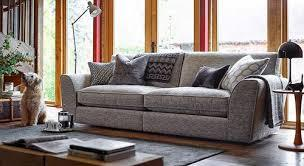door: (214, 0, 286, 123), (62, 0, 103, 103), (33, 0, 63, 102), (152, 0, 202, 53), (107, 0, 151, 55)
light: (66, 0, 101, 74), (271, 37, 304, 91)
sofa: (61, 53, 284, 144)
table: (0, 137, 165, 166), (273, 87, 304, 155), (0, 93, 29, 118)
